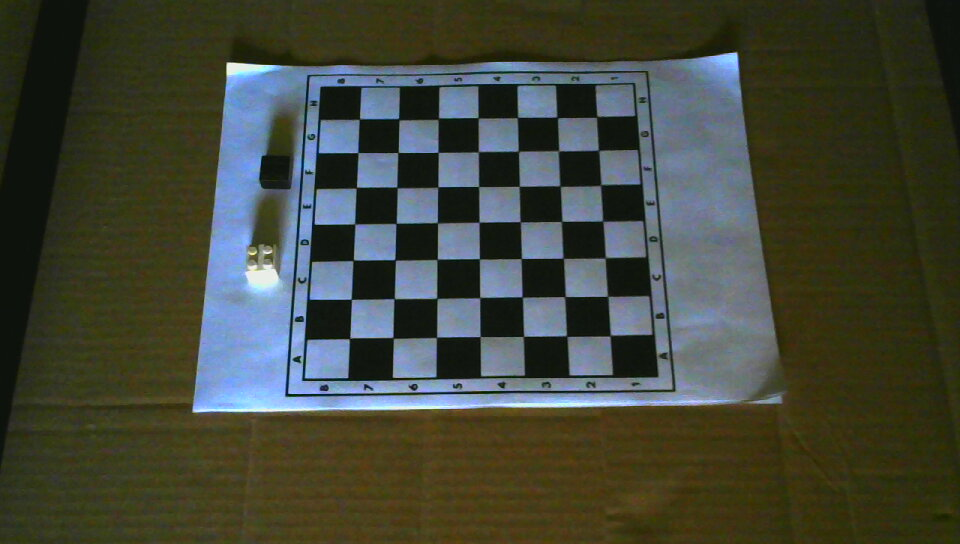bp: (259, 154, 293, 190)
wp: (245, 243, 280, 283)
